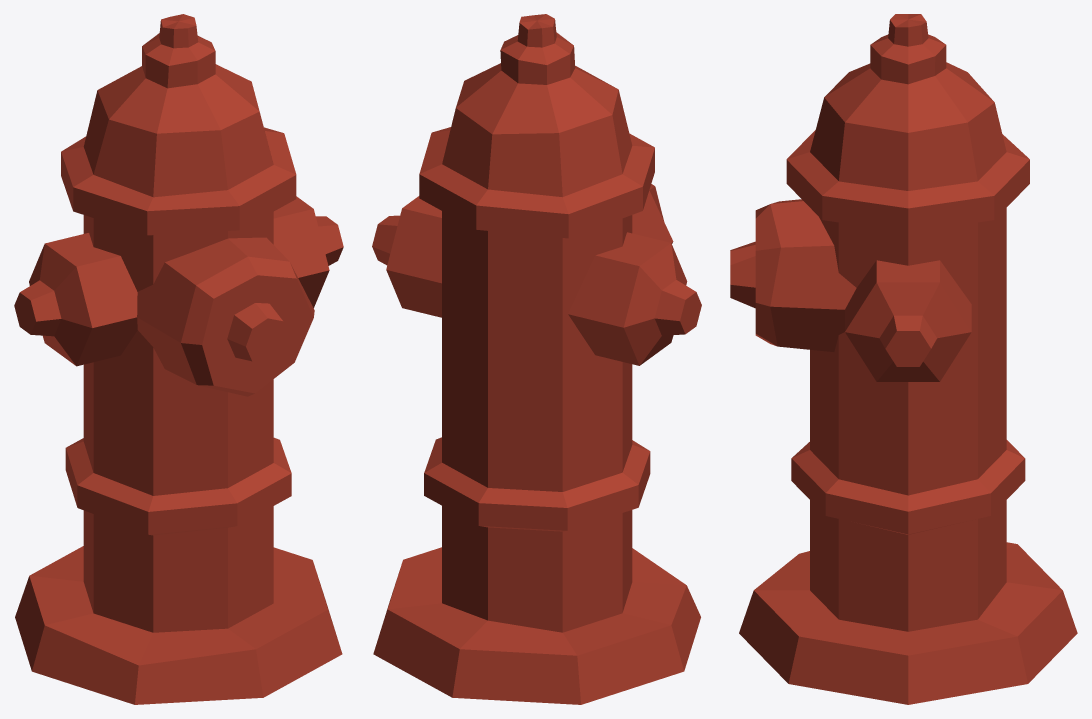
Rendered from hydrant.glb.
3 views of the same model, side by side, from view 1: azimuth 30°, elevation 25°; view 2: azimuth 150°, elevation 25°; view 3: azimuth 270°, elevation 25° (orthographic).
Parts seen in each view (by area): view 1: SM_Prop_Hydrant_01; view 2: SM_Prop_Hydrant_01; view 3: SM_Prop_Hydrant_01.
Boxes of the visible parts, x1,y1,x2,y2 form: SM_Prop_Hydrant_01: [14, 14, 343, 704]; SM_Prop_Hydrant_01: [372, 14, 701, 704]; SM_Prop_Hydrant_01: [730, 14, 1077, 704].
Bounding box in the file's own units: 0.5512 × 1.05 × 0.5404.
Materials: 1 (1 with a texture image).
